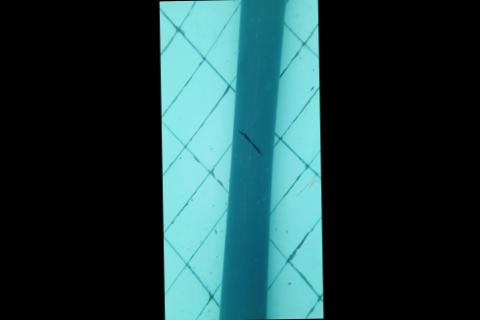keretakan: (237, 127, 262, 157)
